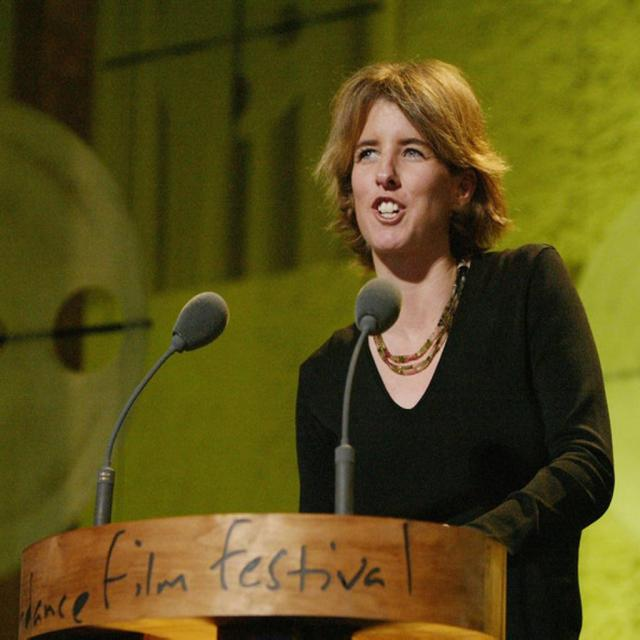Face: (348, 103, 451, 258)
